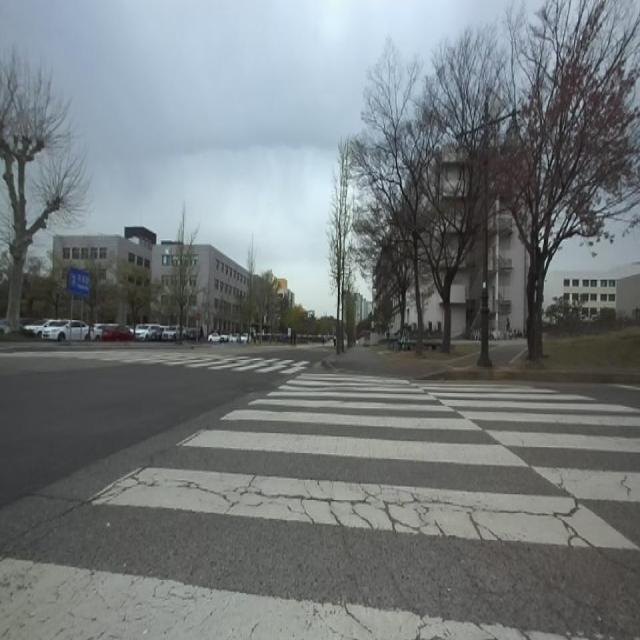sidewalk: (323, 344, 491, 376)
